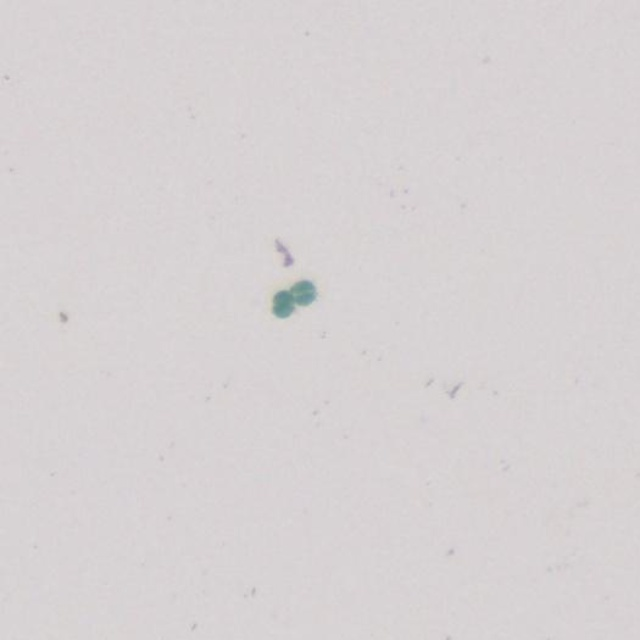non_viable: (290, 280, 316, 305), (272, 290, 294, 317)
